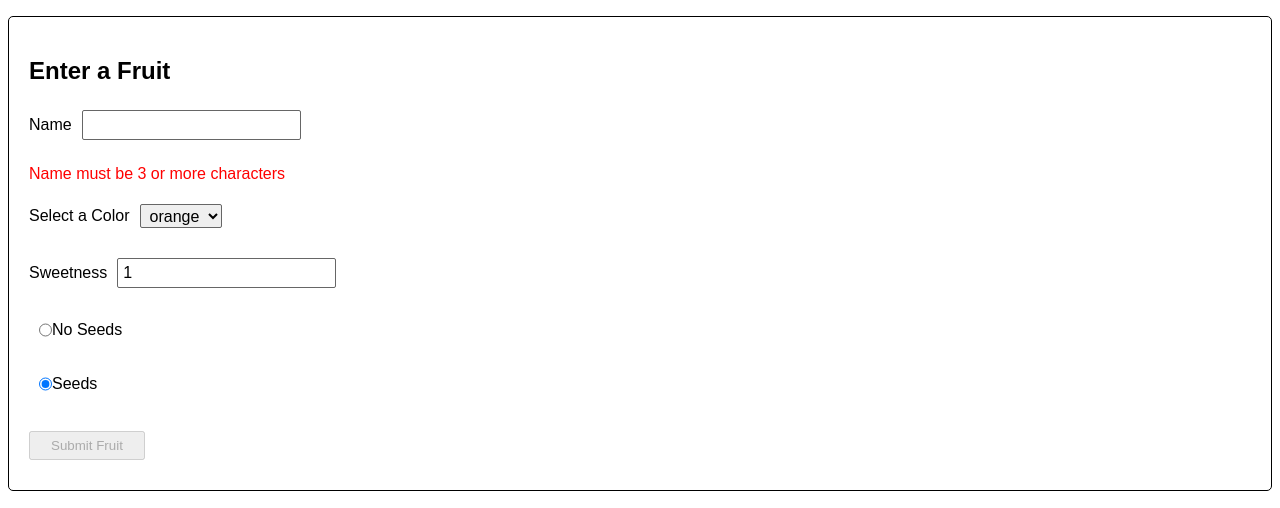
Test: (17 points) FruitForm › (2 points) should have controlled inputs that default to "Seeds" (i.e., "yes") for the seeds radio inputs
Expected: the radio button labelled "Seeds" is checked, left=39, top=372, right=52, bottom=396
Click the radio button labelled "No Seeds": {"x": 46, "y": 330} left=39, top=318, right=52, bottom=342
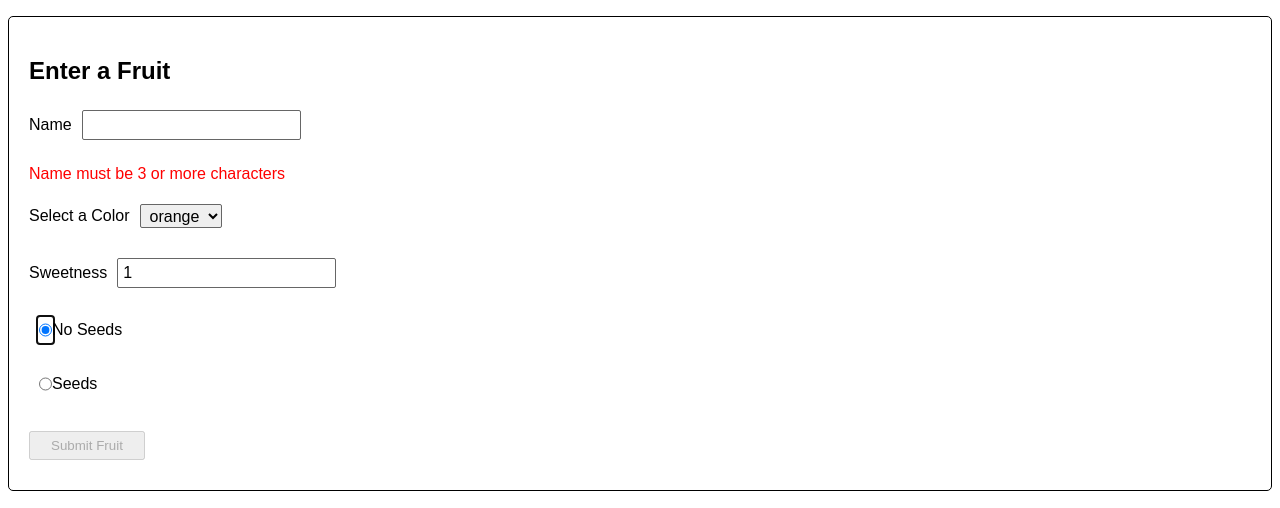
Expected: the radio button labelled "No Seeds" is checked, left=39, top=318, right=52, bottom=342
Expected: the radio button labelled "Seeds" is not checked, left=39, top=372, right=52, bottom=396
